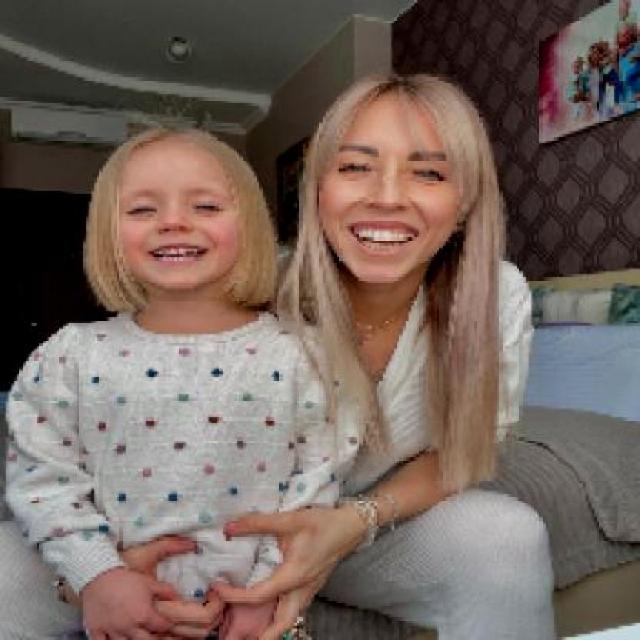child: (3, 122, 343, 638)
